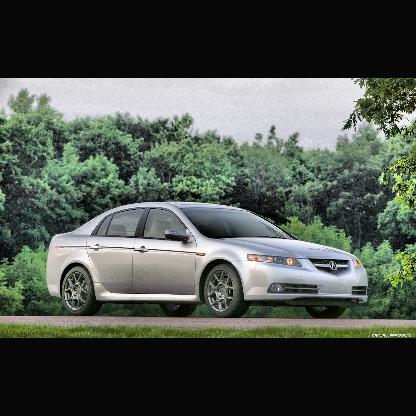Acura TL Type-S 2008: (47, 201, 371, 317)
